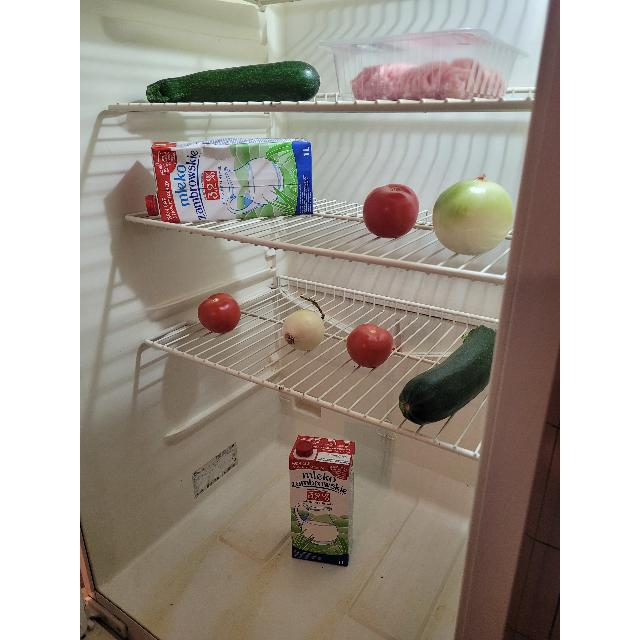meat: (353, 54, 499, 96)
milk: (148, 140, 312, 218), (290, 434, 354, 570)
onion: (435, 173, 513, 255), (283, 304, 325, 350)
tomato: (365, 182, 417, 238), (348, 325, 392, 369), (197, 294, 239, 332)
zucchini: (405, 332, 497, 420), (143, 64, 314, 100)
